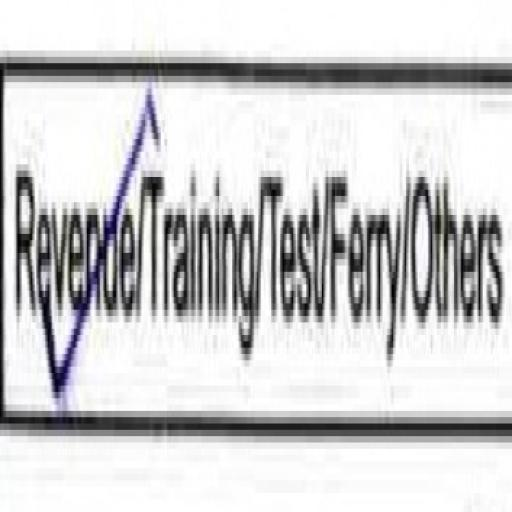check: (5, 58, 137, 484)
